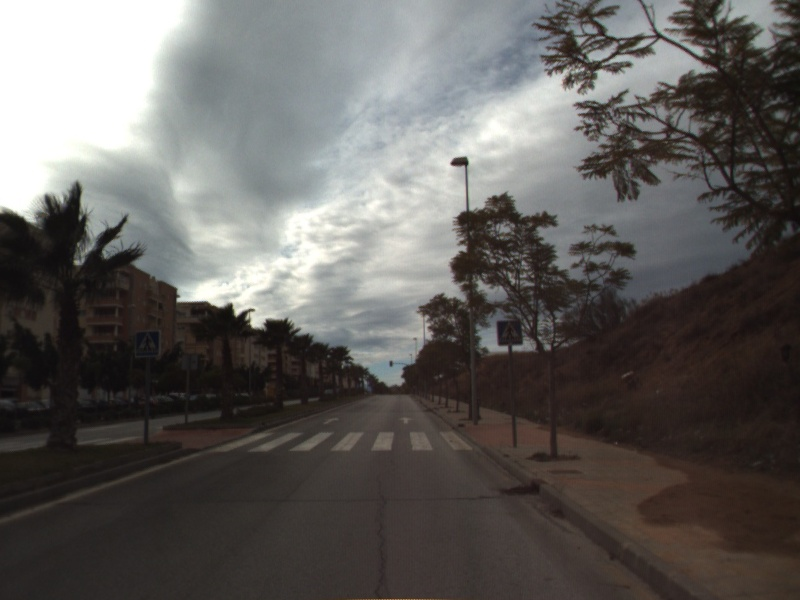STRAIGHT: (320, 415, 341, 426), (397, 415, 415, 426)
